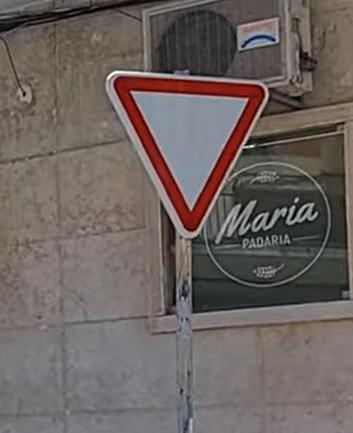cedencia de passagem: (90, 59, 279, 231)
